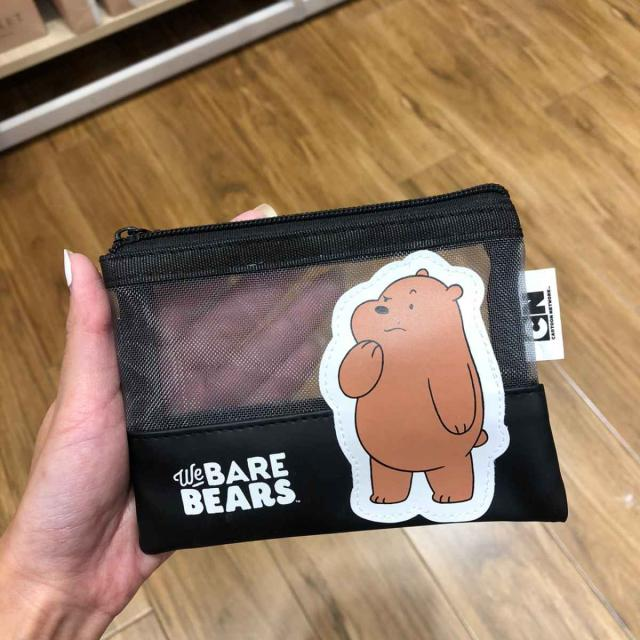Handbag: (102, 184, 567, 558)
